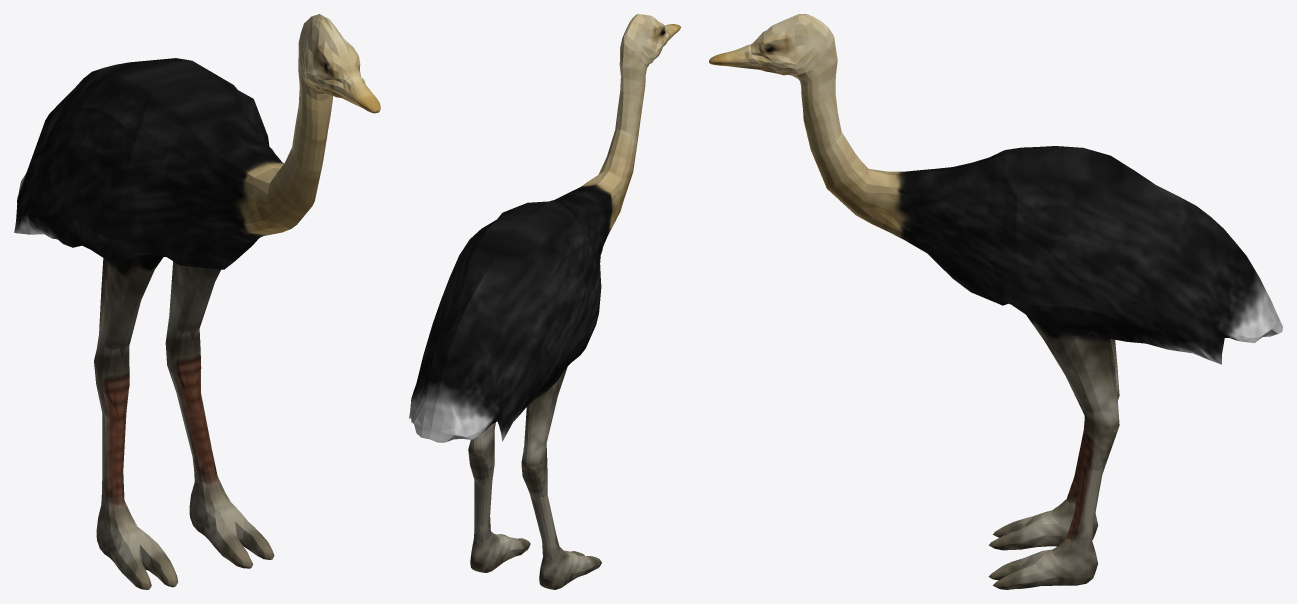
The model's file is ostrich.FBX.
The picture shows the model from 3 angles, left to right: view 1: azimuth 30°, elevation 25°; view 2: azimuth 150°, elevation 25°; view 3: azimuth 270°, elevation 25°; orthographic projection. The views are drawn at different scales.
Visible parts, largest first — view 1: ostrich; view 2: ostrich; view 3: ostrich.
Part boxes in pixels (x1,y1,x2,y2): ostrich: [14, 14, 380, 589]; ostrich: [409, 14, 680, 589]; ostrich: [709, 14, 1282, 589].
Bounding box in the file's own units: 1.01 × 3.84 × 3.63.
1 material, 1 textured.
